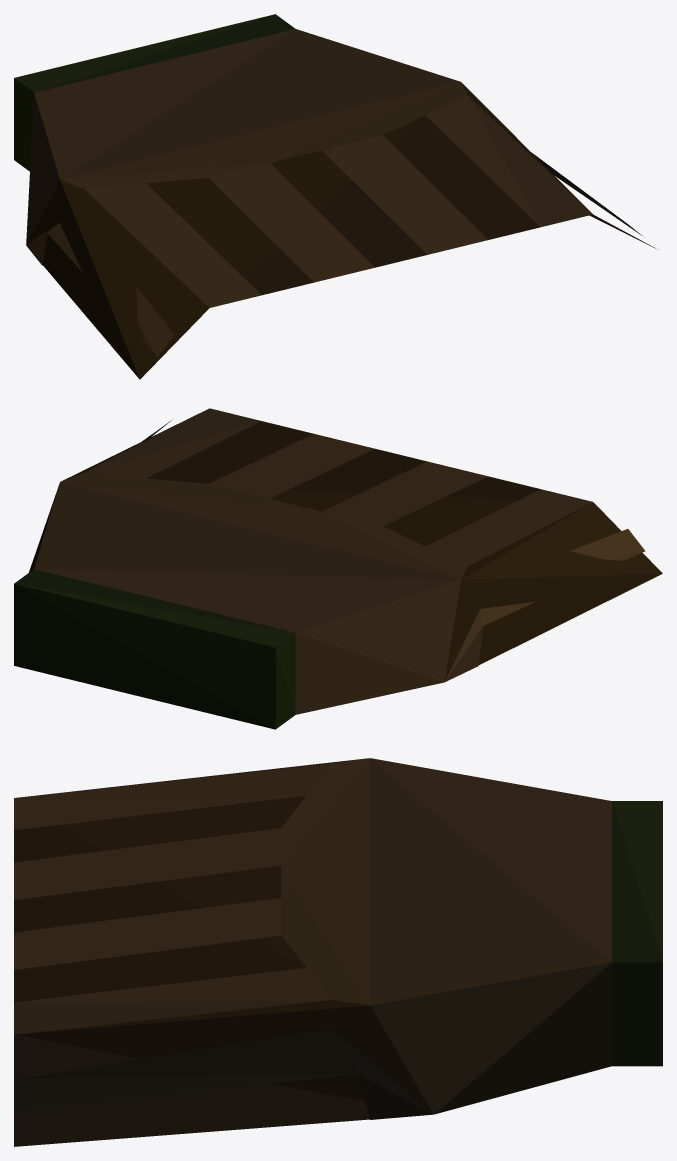
The model's file is bronze-plateskirt.obj.
3 renders of one model, top to bottom at view 1: azimuth 30°, elevation 25°; view 2: azimuth 150°, elevation 25°; view 3: azimuth 270°, elevation 25°, orthographic. The views are drawn at different scales.
Visible parts, largest first — view 1: Item Bronze plateskirt 2026-09-24_18-09-40; view 2: Item Bronze plateskirt 2026-09-24_18-09-40; view 3: Item Bronze plateskirt 2026-09-24_18-09-40.
Boxes of the visible parts, bbox=[...] form: Item Bronze plateskirt 2026-09-24_18-09-40: bbox=[14, 14, 657, 379]; Item Bronze plateskirt 2026-09-24_18-09-40: bbox=[14, 408, 662, 729]; Item Bronze plateskirt 2026-09-24_18-09-40: bbox=[14, 758, 662, 1146].
Size of the model in its own units: 60 by 9 by 51.
